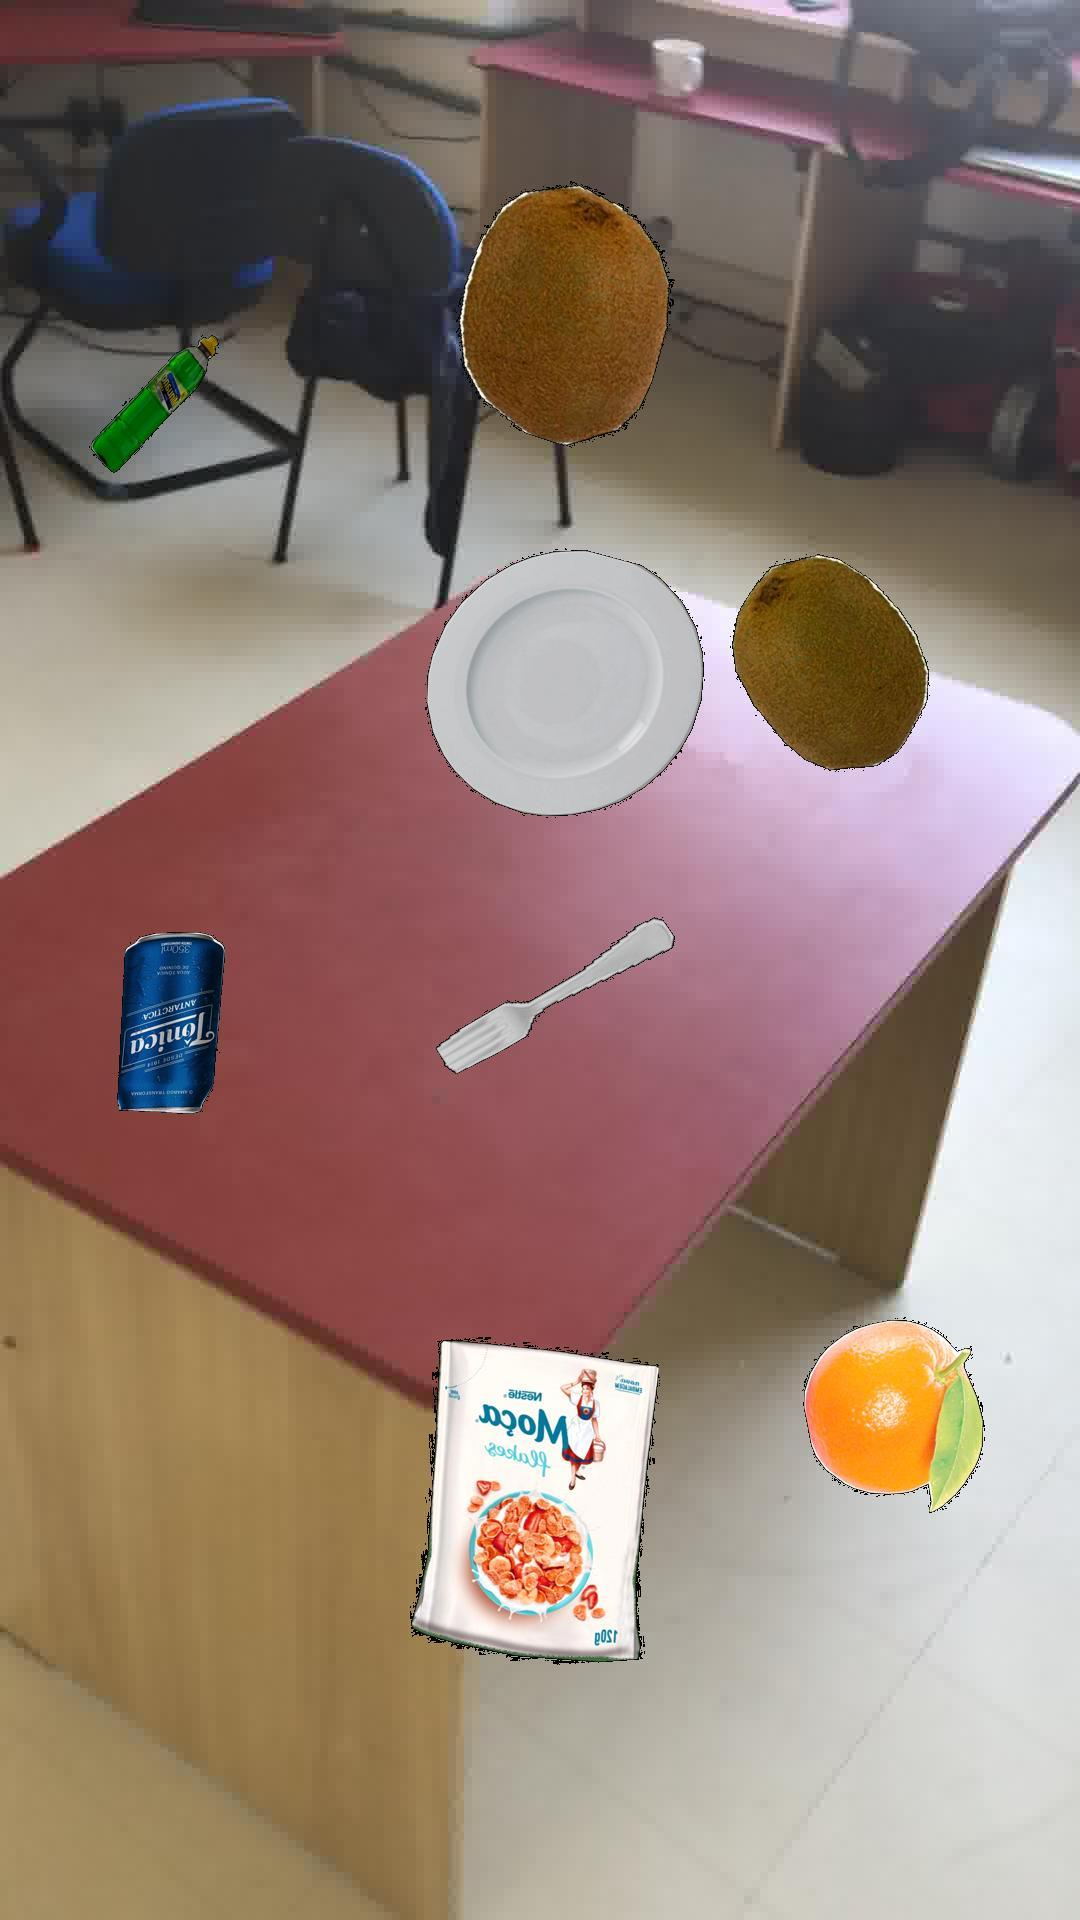cleaner: (90, 334, 218, 472)
corn flakes: (409, 1337, 658, 1663)
fork: (434, 915, 674, 1072)
kiwi: (456, 183, 674, 444), (731, 553, 927, 770)
orange: (802, 1319, 984, 1511)
plate: (423, 549, 703, 815)
tonic: (116, 931, 223, 1113)
